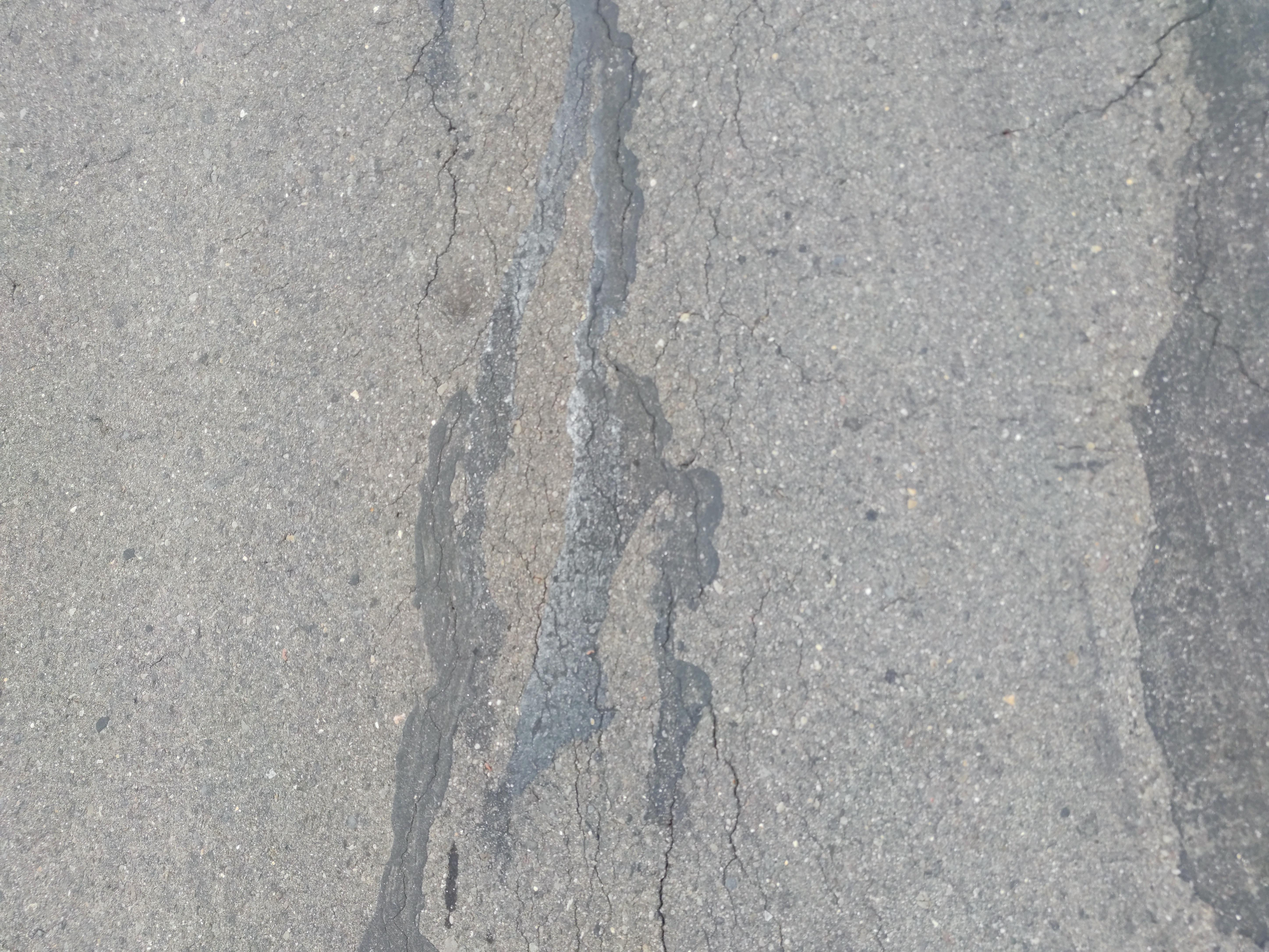GRIETA: (1047, 0, 1214, 139), (615, 57, 637, 268)
PARCHE: (1134, 0, 1269, 949)
PIEL DE COCODRILO: (637, 1, 823, 476), (401, 3, 596, 408), (483, 323, 664, 718), (647, 571, 817, 952), (495, 698, 637, 951)
